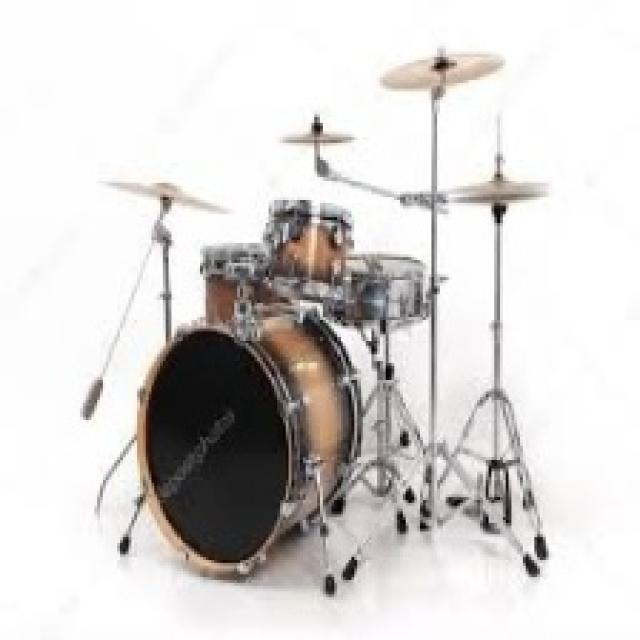drums: (112, 43, 549, 590)
